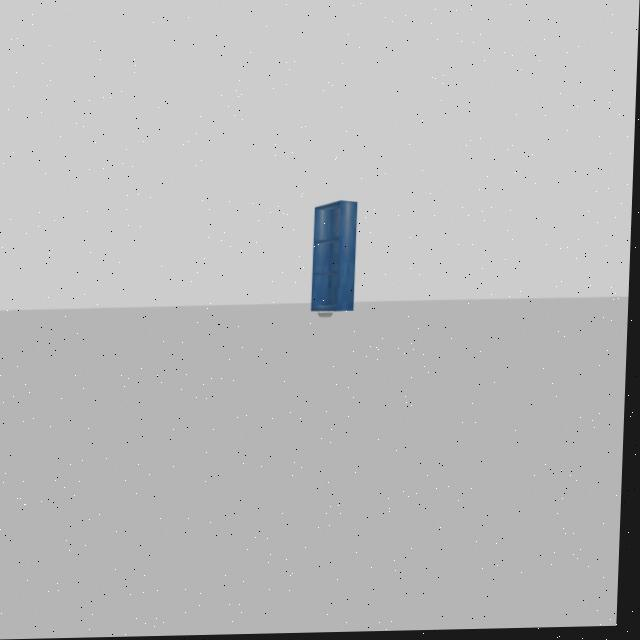bowl: (320, 312, 336, 321)
shelf: (311, 202, 363, 314)
